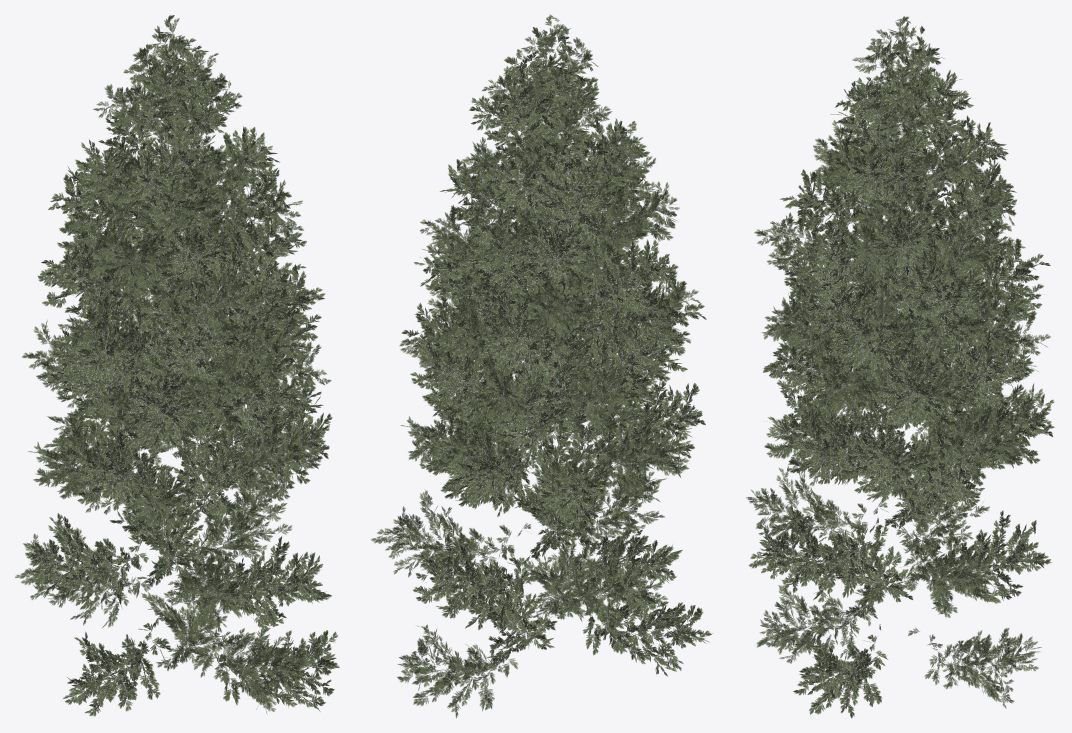
Rendered from cedar_tree.glb.
3 views of the same model, side by side, from view 1: azimuth 30°, elevation 25°; view 2: azimuth 150°, elevation 25°; view 3: azimuth 270°, elevation 25° (orthographic). The views are drawn at different scales.
Visible parts, largest first — view 1: MI_LOD1_001001, MI_LOD1_001, MI_LOD1_001002; view 2: MI_LOD1_001001, MI_LOD1_001, MI_LOD1_001002; view 3: MI_LOD1_001001, MI_LOD1_001, MI_LOD1_001002.
Boxes of the visible parts, <box> form: MI_LOD1_001001: <box>23,15,339,716</box>; MI_LOD1_001: <box>15,18,331,713</box>; MI_LOD1_001002: <box>24,15,339,715</box>; MI_LOD1_001001: <box>402,15,711,676</box>; MI_LOD1_001: <box>371,14,701,718</box>; MI_LOD1_001002: <box>402,15,711,675</box>; MI_LOD1_001001: <box>749,18,1054,717</box>; MI_LOD1_001: <box>746,16,1050,708</box>; MI_LOD1_001002: <box>749,19,1053,717</box>.
Size of what is drawn, in the model's own units: 12.6 by 29.43 by 12.67.
Materials: 1 (1 with a texture image).
